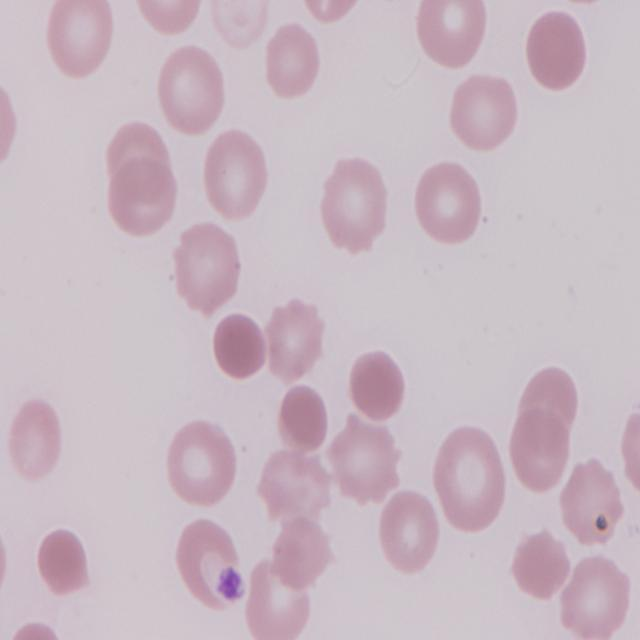RBC: (433, 426, 515, 537), (170, 512, 246, 617), (319, 155, 392, 256), (325, 412, 402, 506), (153, 41, 227, 138), (165, 417, 242, 510), (170, 220, 242, 318), (108, 140, 178, 238), (257, 443, 337, 528), (559, 455, 630, 550), (506, 402, 574, 500), (201, 128, 271, 223), (414, 158, 486, 248), (560, 553, 634, 640), (446, 68, 520, 154), (376, 485, 440, 578), (415, 0, 493, 74), (46, 0, 118, 80), (7, 393, 69, 484), (263, 296, 327, 382), (244, 554, 308, 636), (260, 22, 321, 104), (269, 512, 332, 586), (127, 0, 209, 39)
Spherocyte: (524, 7, 588, 90), (208, 308, 268, 382), (348, 348, 408, 422), (274, 381, 330, 454), (36, 527, 88, 599)
